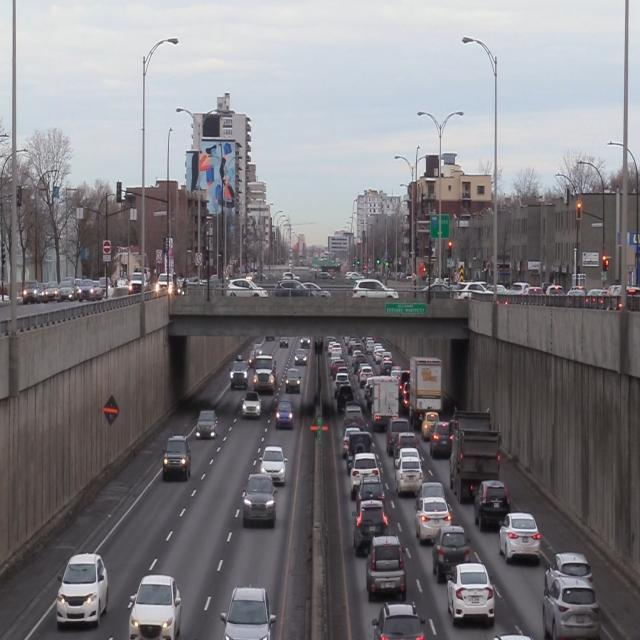Car: (55, 552, 108, 628), (127, 574, 182, 639), (219, 586, 276, 639), (161, 435, 191, 480), (195, 409, 218, 439)
Traffic-light: (575, 200, 582, 219), (602, 255, 609, 271)
